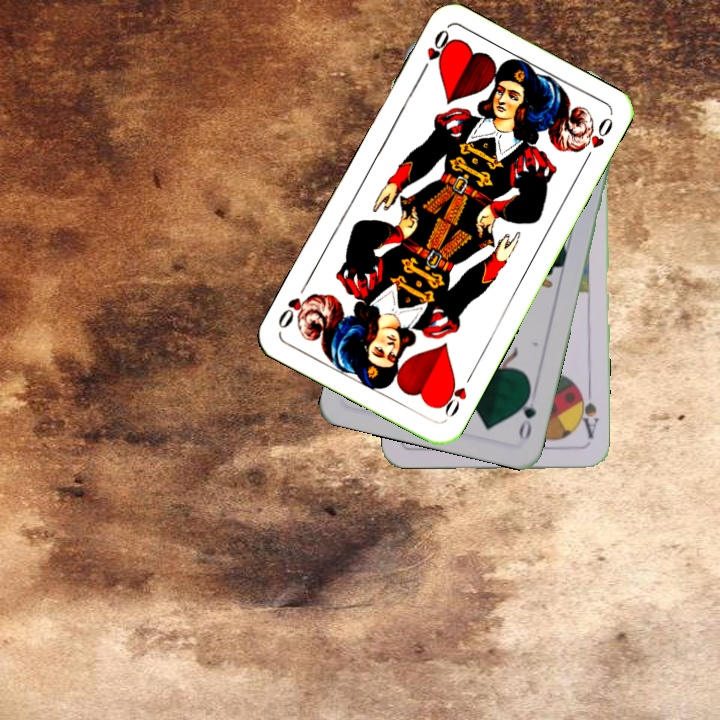GO: (514, 384, 540, 442)
HO: (435, 368, 476, 423), (416, 25, 453, 79)
SA: (574, 384, 601, 440)
